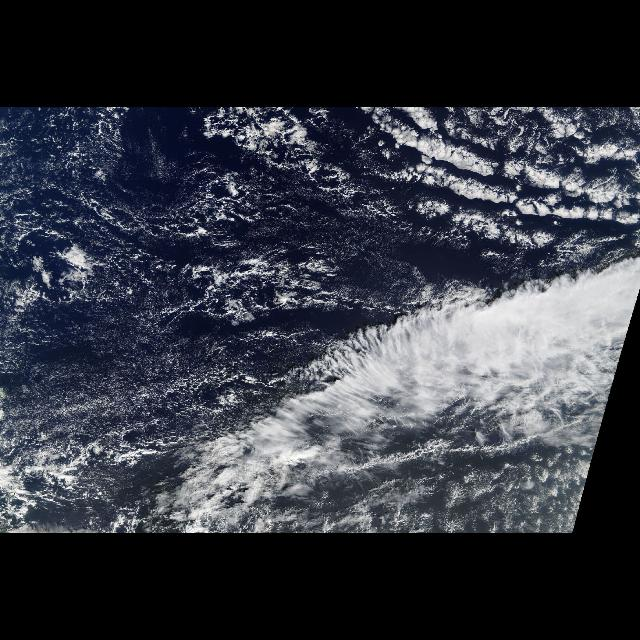Fish: (393, 152, 624, 232)
Flower: (360, 121, 638, 235)
Gravel: (6, 113, 366, 433), (5, 446, 188, 534)
Sugar: (12, 317, 246, 433), (449, 476, 566, 530)
